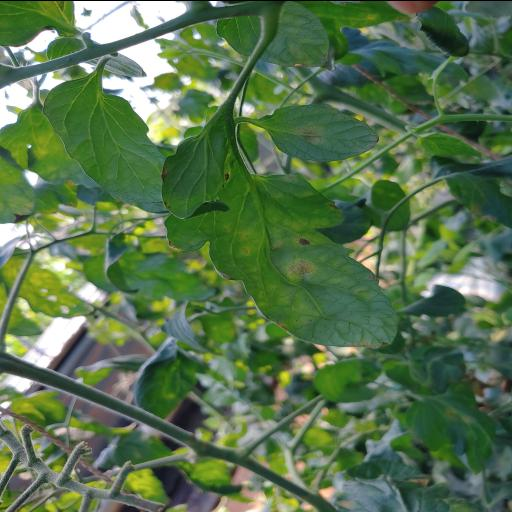disease_tomato: (159, 134, 401, 350), (264, 104, 382, 160)
